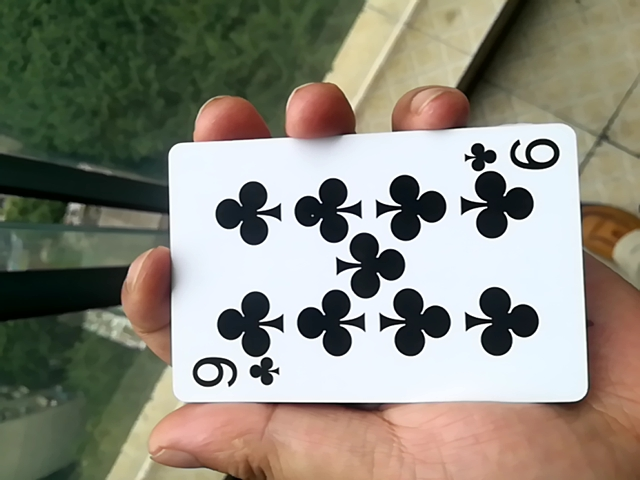mh 9: (152, 129, 585, 412)
